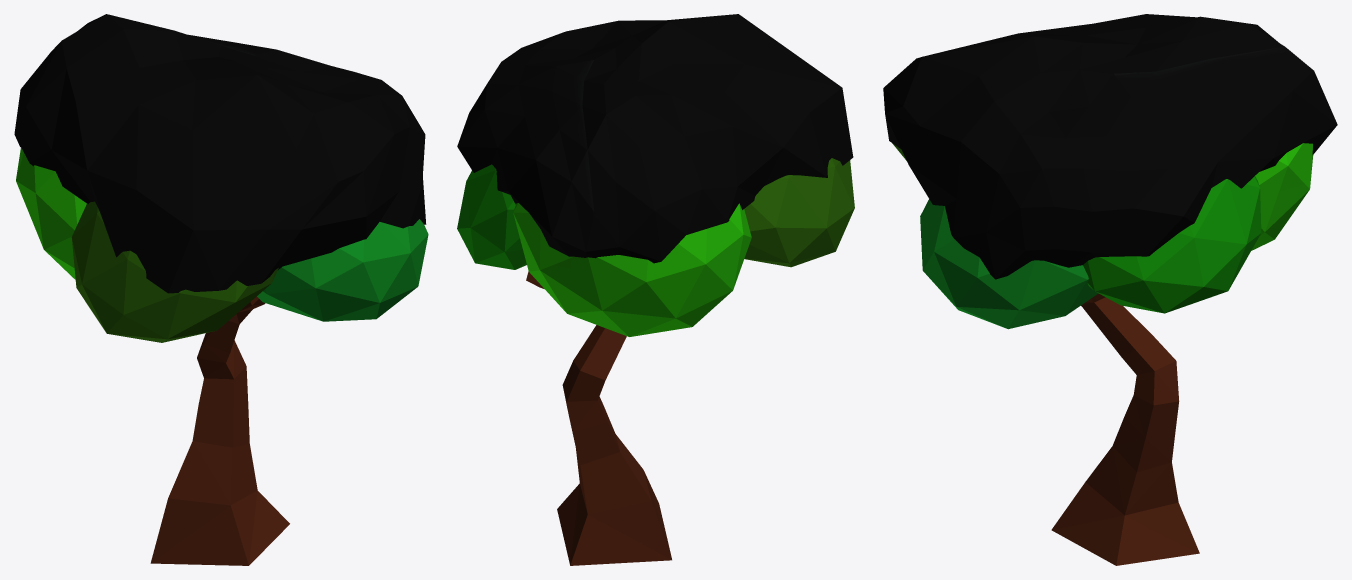
File: SnowTree4.fbx
The picture shows the model from 3 angles, left to right: view 1: azimuth 30°, elevation 25°; view 2: azimuth 150°, elevation 25°; view 3: azimuth 270°, elevation 25°; orthographic projection. The views are drawn at different scales.
Parts seen in each view (by area): view 1: snowtree4; view 2: snowtree4; view 3: snowtree4.
Boxes of the visible parts, x1=… form: snowtree4: x1=14, y1=14, x2=428, y2=565; snowtree4: x1=457, y1=14, x2=854, y2=565; snowtree4: x1=883, y1=14, x2=1337, y2=565.
Size of the model in its own units: 505 by 735 by 596.
